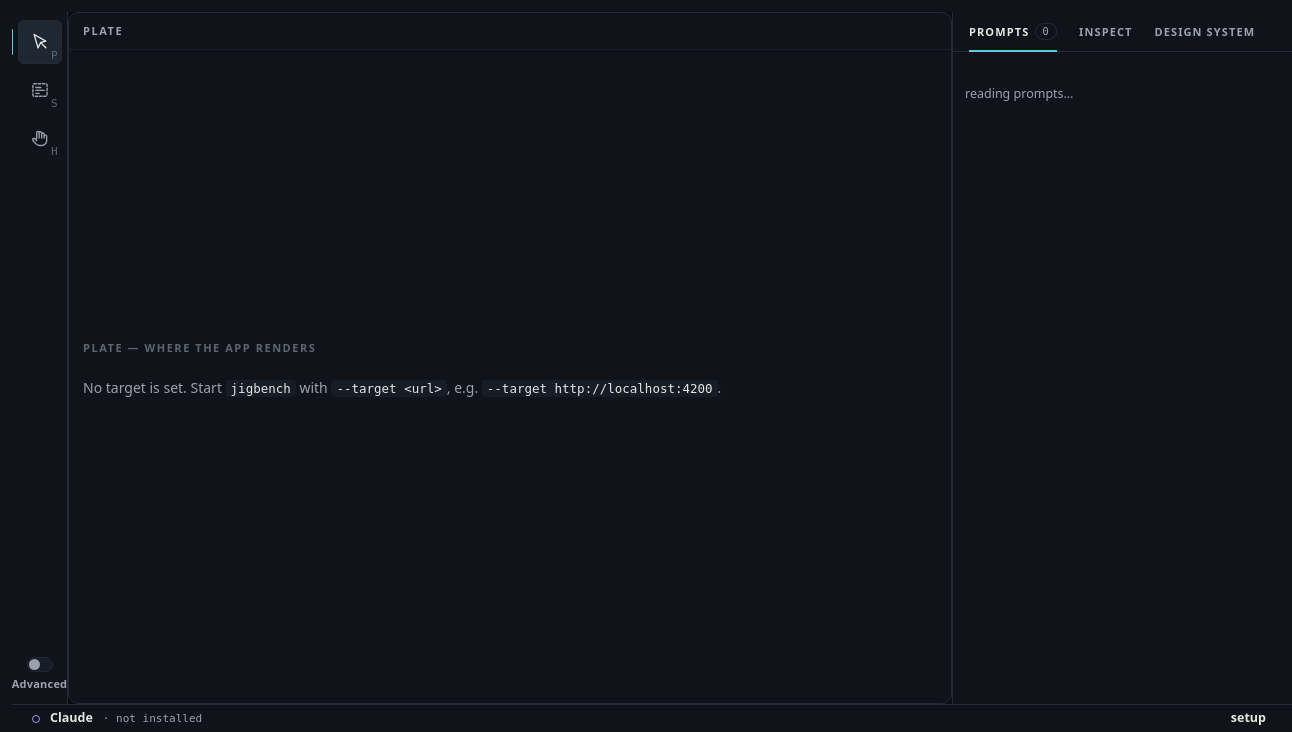
it: App (S12: the quiet bench) › switching to Sketch swaps the plate for the sketch sheet
The image size is (1292, 732).
What coordinates should you click on to do the following:
click the button named "Sketch —"
I would click on:
 (40, 90)
Its box is [18,68,62,112].
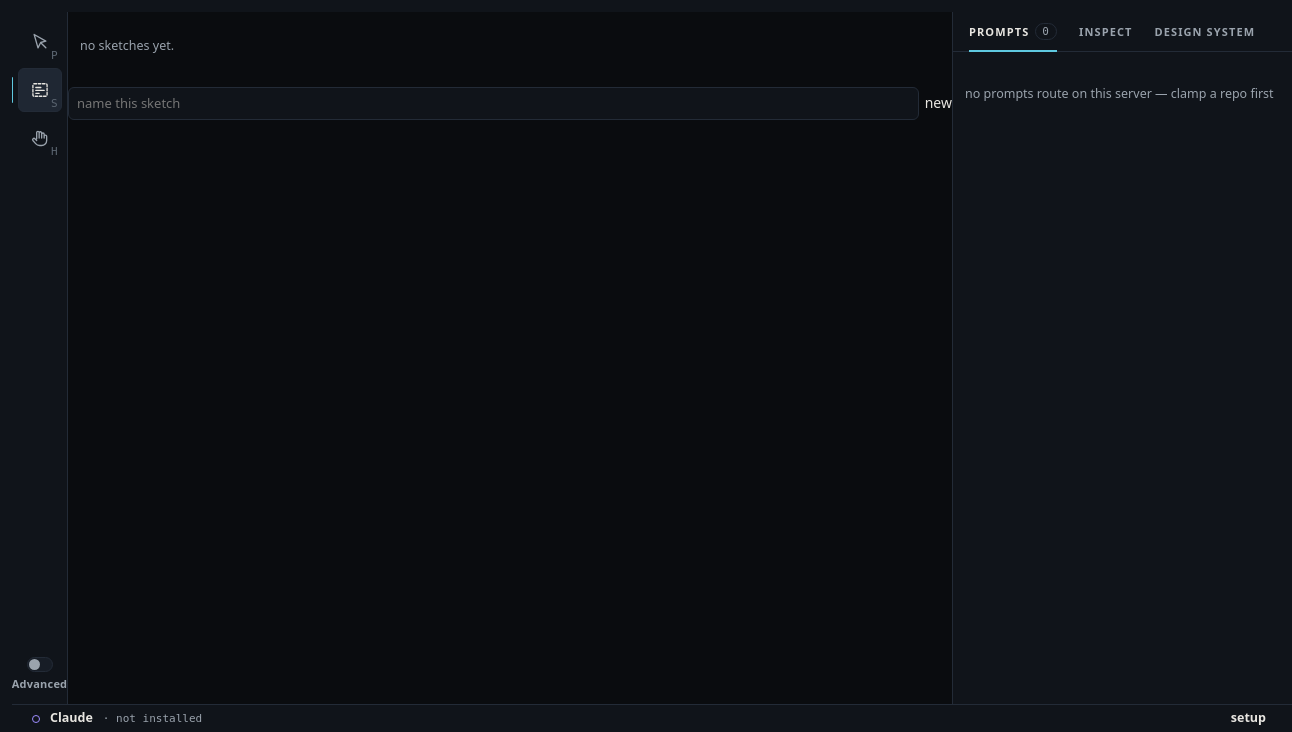
Now the text "no sketches yet." is shown, box [80,36,174,54]
Now the text "Plate — where the app renders" is gone
